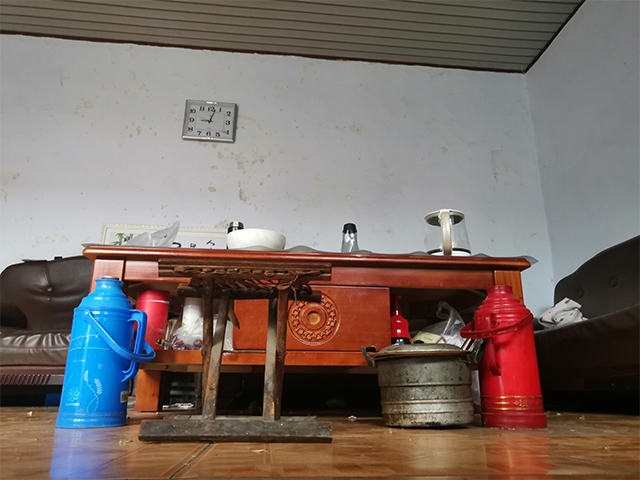sofa: (528, 235, 640, 417)
stool: (135, 256, 335, 444)
table: (83, 242, 537, 413)
